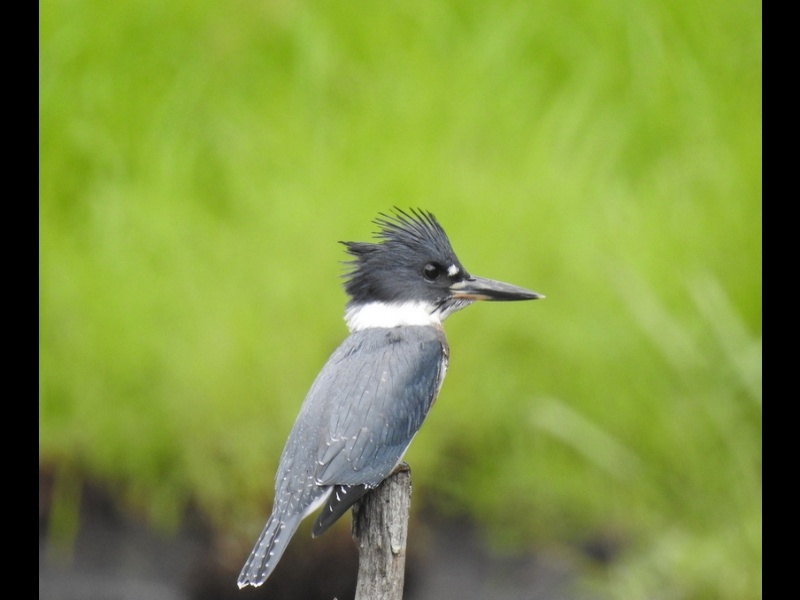kingfisher: (229, 203, 549, 591)
